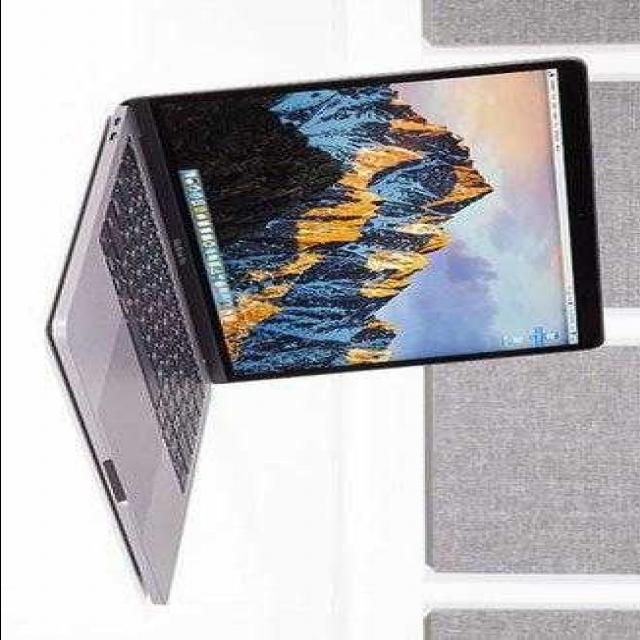laptop: (57, 55, 600, 618)
